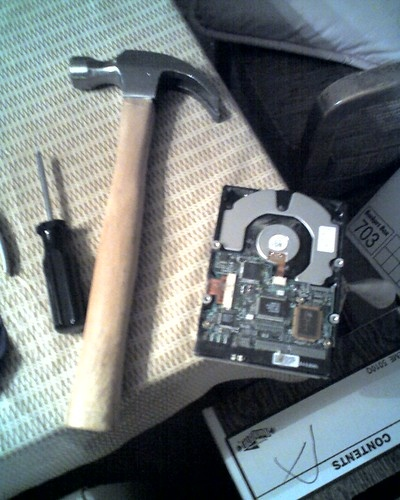hammer: (61, 45, 230, 431)
